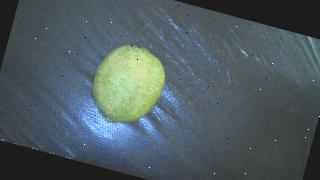DESECHO: (84, 38, 172, 133)
